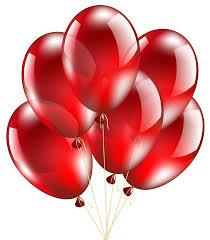red: (9, 101, 92, 202), (121, 94, 203, 193), (66, 4, 140, 111), (22, 32, 92, 132), (94, 73, 161, 174), (140, 28, 196, 124)
